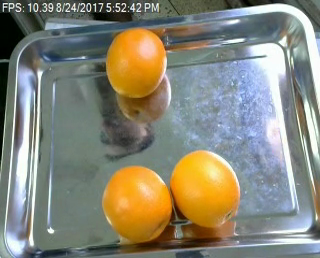Orange: (102, 164, 172, 244), (170, 149, 240, 227), (106, 26, 168, 99)
